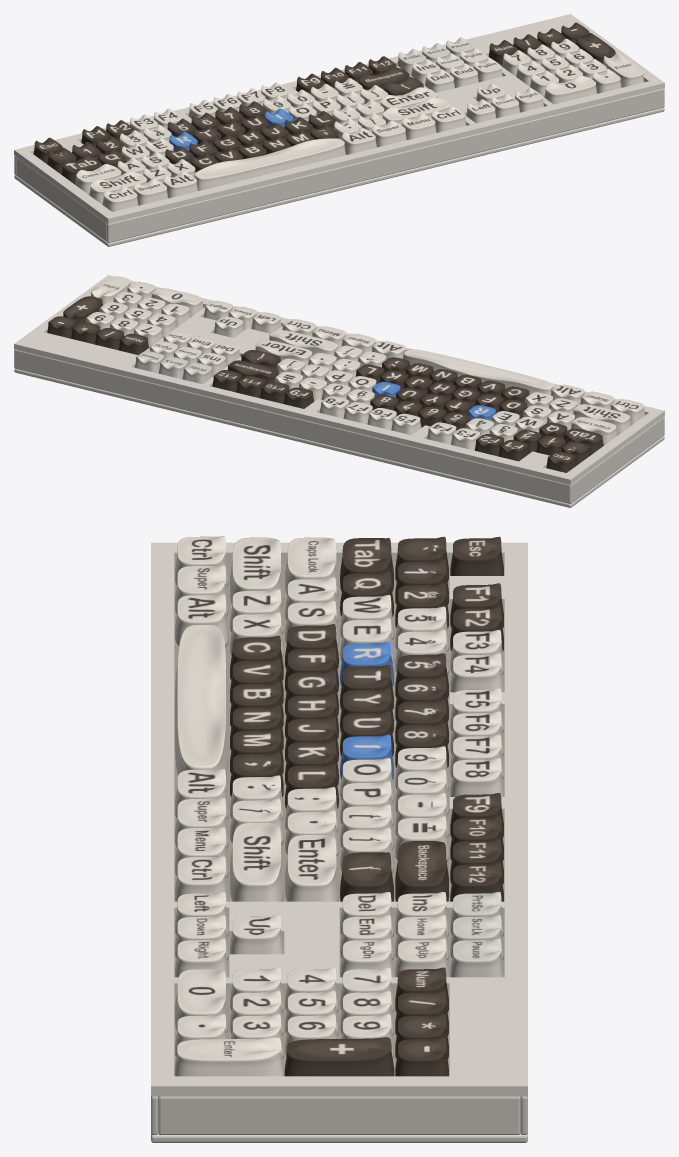
File: keyboard.glb
The picture shows the model from 3 angles, top to bottom: view 1: azimuth 30°, elevation 25°; view 2: azimuth 150°, elevation 25°; view 3: azimuth 270°, elevation 25°; orthographic projection. The views are drawn at different scales.
Visible parts, largest first — view 1: Case_Top, Case_Wall_Front, Space_r5_cream, Case_Floor, Case_Wall_Left, Num0_r4_cream, RShift_r4_cream, LShift_r4_cream, NumEnter_r3_cream, Enter_r3_cream, CapsLock_r3_cream, LCtrl_r5_cream (+31 smaller); view 2: Case_Top, Case_Wall_Back, Case_Floor, Space_r5_cream, Case_Wall_Left, RShift_r4_cream, LShift_r4_cream, Enter_r3_cream, Num0_r4_cream, Backspace_r1_choco, CapsLock_r3_cream, NumEnter_r3_cream (+45 smaller); view 3: Case_Top, Case_Wall_Right, Plate, Space_r5_cream, NumEnter_r3_cream, NumPlus_r1_choco, RShift_r4_cream, Enter_r3_cream, Case_Floor, LShift_r4_cream, Backspace_r1_choco, Num0_r4_cream (+96 smaller).
Part boxes in pixels (x1=…): Case_Top: x1=14, y1=14, x2=664, y2=223; Case_Wall_Front: x1=107, y1=88, x2=664, y2=242; Space_r5_cream: x1=194, y1=138, x2=345, y2=190; Case_Floor: x1=14, y1=107, x2=664, y2=246; Case_Wall_Left: x1=16, y1=157, x2=106, y2=241; Num0_r4_cream: x1=544, y1=75, x2=597, y2=104; RShift_r4_cream: x1=382, y1=97, x2=450, y2=125; LShift_r4_cream: x1=89, y1=171, x2=146, y2=204; NumEnter_r3_cream: x1=603, y1=53, x2=644, y2=87; Enter_r3_cream: x1=380, y1=87, x2=437, y2=111; CapsLock_r3_cream: x1=75, y1=164, x2=121, y2=194; LCtrl_r5_cream: x1=102, y1=186, x2=138, y2=211; Case_Top: x1=14, y1=275, x2=664, y2=484; Case_Wall_Back: x1=14, y1=349, x2=571, y2=503; Case_Floor: x1=14, y1=368, x2=664, y2=507; Space_r5_cream: x1=402, y1=349, x2=553, y2=394; Case_Wall_Left: x1=572, y1=418, x2=662, y2=502; RShift_r4_cream: x1=269, y1=330, x2=337, y2=355; LShift_r4_cream: x1=573, y1=404, x2=630, y2=435; Enter_r3_cream: x1=255, y1=340, x2=311, y2=366; Num0_r4_cream: x1=151, y1=288, x2=203, y2=317; Backspace_r1_choco: x1=227, y1=360, x2=278, y2=384; CapsLock_r3_cream: x1=571, y1=417, x2=617, y2=445; NumEnter_r3_cream: x1=91, y1=276, x2=130, y2=304; Case_Top: x1=151, y1=542, x2=527, y2=1096; Case_Wall_Right: x1=158, y1=1096, x2=520, y2=1134; Plate: x1=174, y1=563, x2=504, y2=1076; Space_r5_cream: x1=175, y1=624, x2=228, y2=776; NumEnter_r3_cream: x1=174, y1=1037, x2=284, y2=1076; NumPlus_r1_choco: x1=284, y1=1037, x2=394, y2=1076; RShift_r4_cream: x1=230, y1=822, x2=283, y2=901; Enter_r3_cream: x1=285, y1=834, x2=338, y2=901; Case_Floor: x1=151, y1=1133, x2=527, y2=1142; LShift_r4_cream: x1=230, y1=537, x2=283, y2=606; Backspace_r1_choco: x1=395, y1=841, x2=448, y2=901; Num0_r4_cream: x1=175, y1=969, x2=228, y2=1032.
Size of the model in its own units: 0.4446 by 0.0305 by 0.1303.
5 materials, 2 textured.
